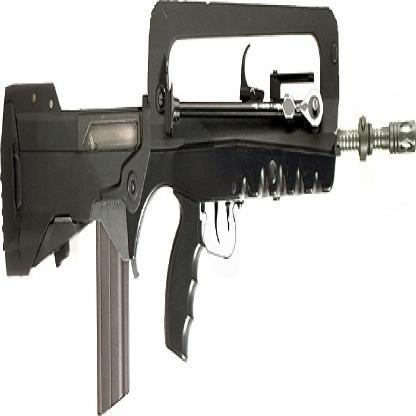gun: (0, 0, 413, 415)
